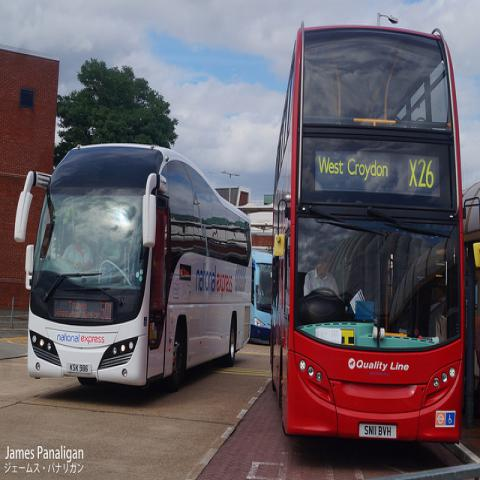bus: (271, 22, 480, 444), (11, 143, 255, 394), (256, 247, 272, 341)
